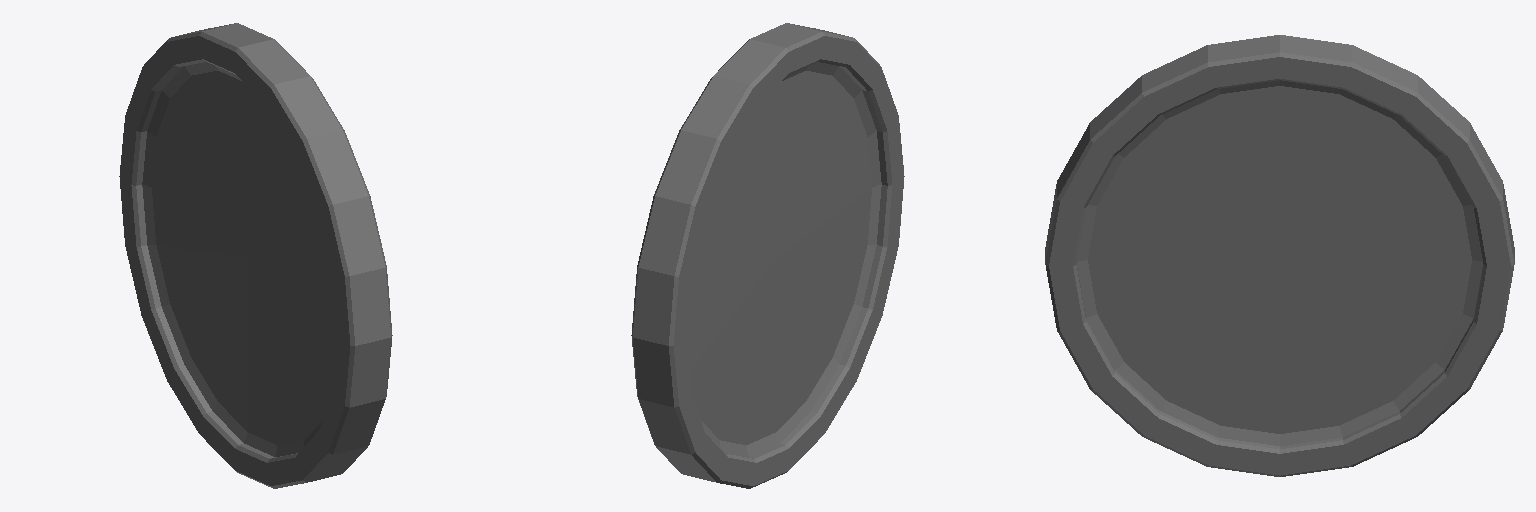
The model's file is Conin.obj.
3 views of the same model, side by side, from view 1: azimuth 30°, elevation 25°; view 2: azimuth 150°, elevation 25°; view 3: azimuth 270°, elevation 25° (orthographic).
Visible parts, largest first — view 1: pCylinder1; view 2: pCylinder1; view 3: pCylinder1.
Boxes of the visible parts, <box> form: pCylinder1: <box>119,23,392,488</box>; pCylinder1: <box>631,23,904,488</box>; pCylinder1: <box>1045,35,1514,476</box>.
Bounding box in the file's own units: 0.207 × 2 × 2.